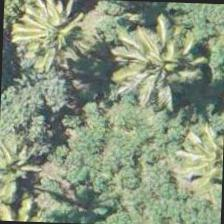Kelapa_Sawit: (125, 24, 218, 118), (0, 130, 72, 223), (158, 122, 224, 214), (2, 0, 81, 67)
